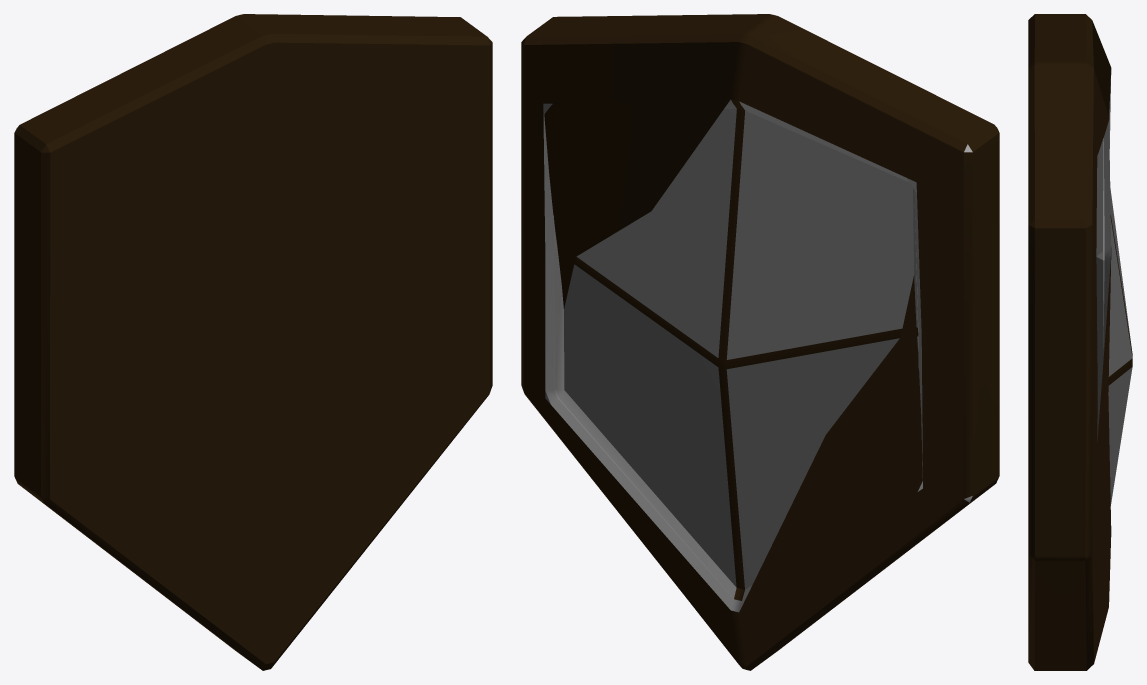
Rendered from shield 1.fbx.
The picture shows the model from 3 angles, left to right: view 1: azimuth 30°, elevation 25°; view 2: azimuth 150°, elevation 25°; view 3: azimuth 270°, elevation 25°; orthographic projection. The views are drawn at different scales.
Visible parts, largest first — view 1: pCube73; view 2: pCube73; view 3: pCube73.
Boxes of the visible parts, left/top/right/bottom form: pCube73: left=14, top=14, right=492, bottom=670; pCube73: left=521, top=14, right=999, bottom=670; pCube73: left=1028, top=14, right=1132, bottom=670.
Bounding box in the file's own units: 12.81 × 17.21 × 2.68.
